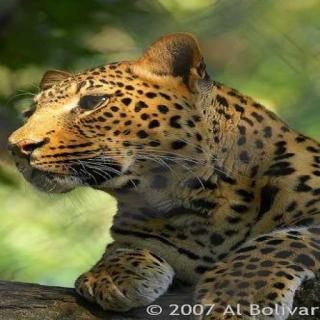-: (13, 35, 320, 320)
